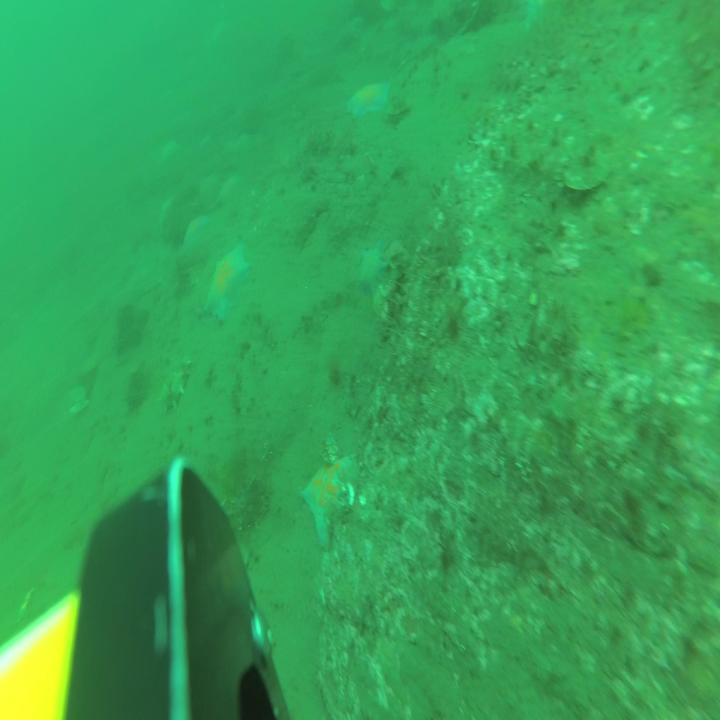holothurian: (160, 361, 190, 417)
scallop: (66, 388, 88, 415), (81, 348, 101, 377), (374, 284, 390, 319)
starfish: (302, 454, 363, 552), (205, 240, 252, 324), (347, 79, 391, 119), (361, 243, 387, 297), (524, 0, 560, 36), (182, 212, 208, 255), (221, 170, 242, 207)
